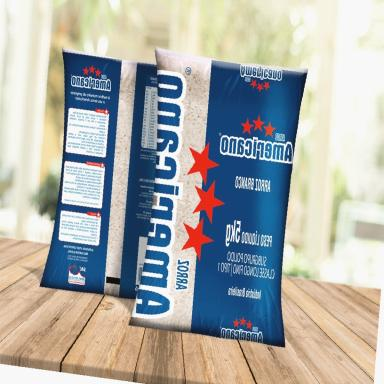rice package: (130, 49, 306, 346), (41, 50, 157, 298)
